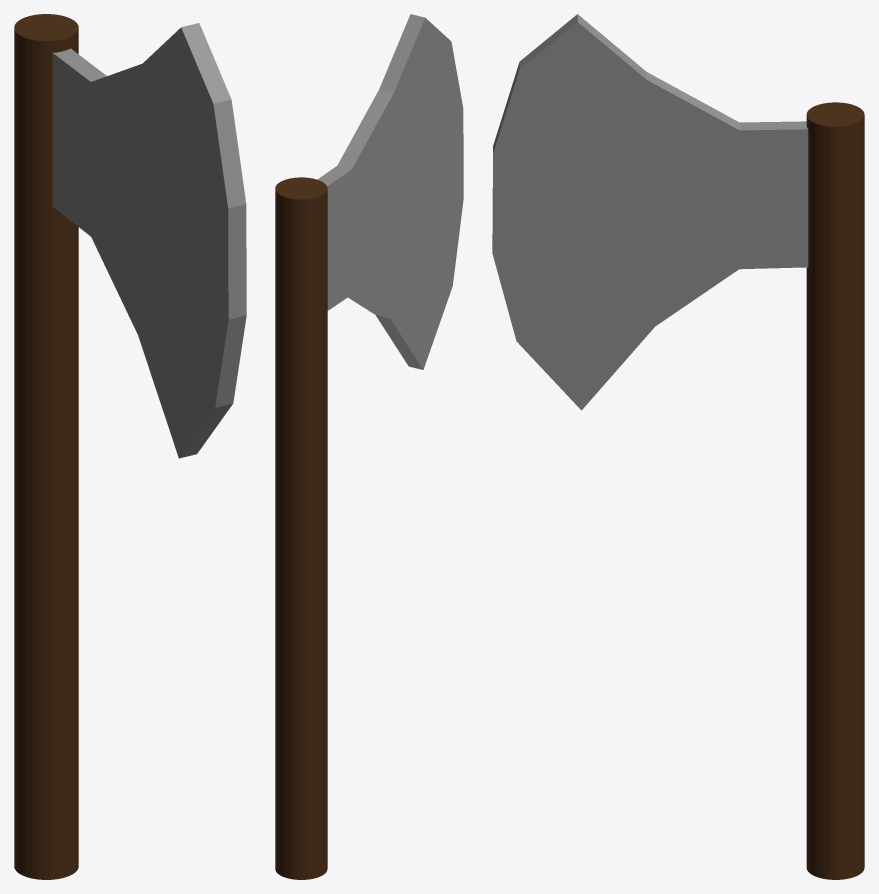
Rendered from Stone Axe.fbx.
3 views of the same model, side by side, from view 1: azimuth 30°, elevation 25°; view 2: azimuth 150°, elevation 25°; view 3: azimuth 270°, elevation 25° (orthographic). The views are drawn at different scales.
Visible parts, largest first — view 1: Cylinder.017; view 2: Cylinder.017; view 3: Cylinder.017.
Boxes of the visible parts, <box> form: Cylinder.017: <box>14,14,246,879</box>; Cylinder.017: <box>275,14,463,879</box>; Cylinder.017: <box>492,14,864,879</box>.
Bounding box in the file's own units: 3.49 × 56.42 × 22.39.
